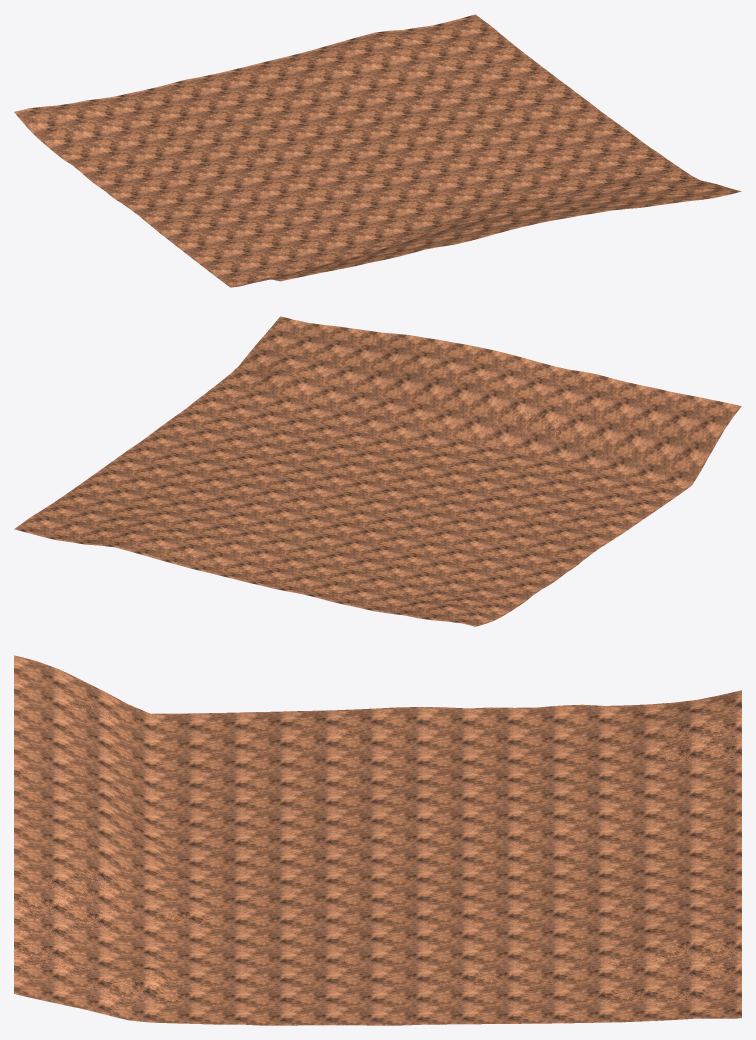
Rendered from terrain_03_13.dae.
The picture shows the model from 3 angles, top to bottom: view 1: azimuth 30°, elevation 25°; view 2: azimuth 150°, elevation 25°; view 3: azimuth 270°, elevation 25°; orthographic projection. The views are drawn at different scales.
Visible parts, largest first — view 1: terrain_03_13-node; view 2: terrain_03_13-node; view 3: terrain_03_13-node.
Boxes of the visible parts, bbox=[...] form: terrain_03_13-node: bbox=[14, 14, 741, 287]; terrain_03_13-node: bbox=[14, 316, 741, 626]; terrain_03_13-node: bbox=[14, 655, 741, 1025].
Bounding box in the file's own units: 128 × 128 × 12.19.
1 material, 1 textured.
